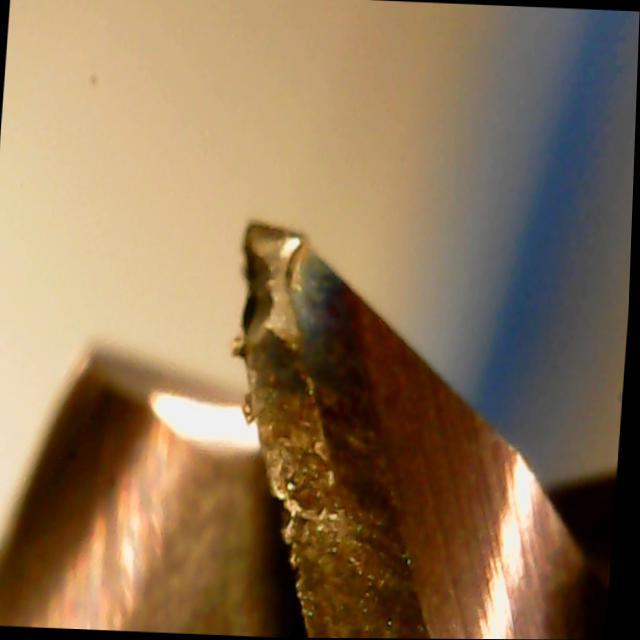Tool-wear-class-2: (214, 218, 367, 593)
